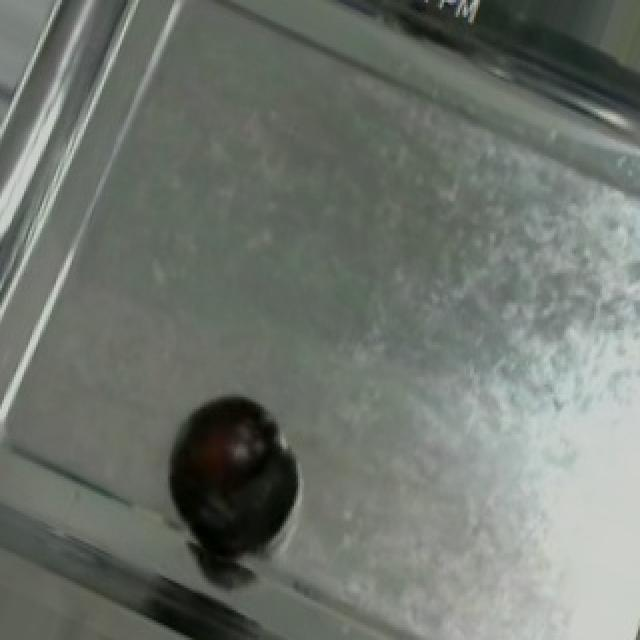Fruit: (154, 380, 314, 573)
